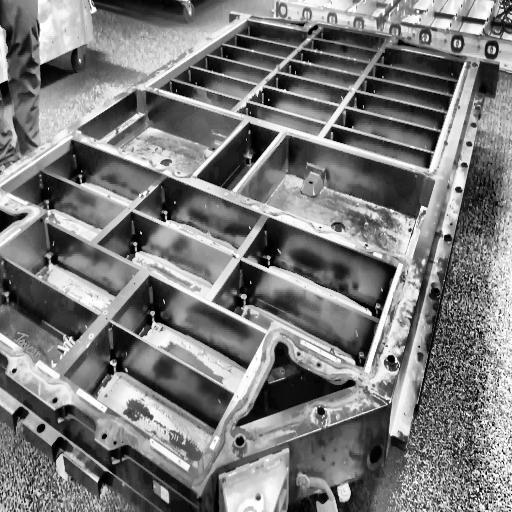b_casing: (0, 11, 481, 498)
